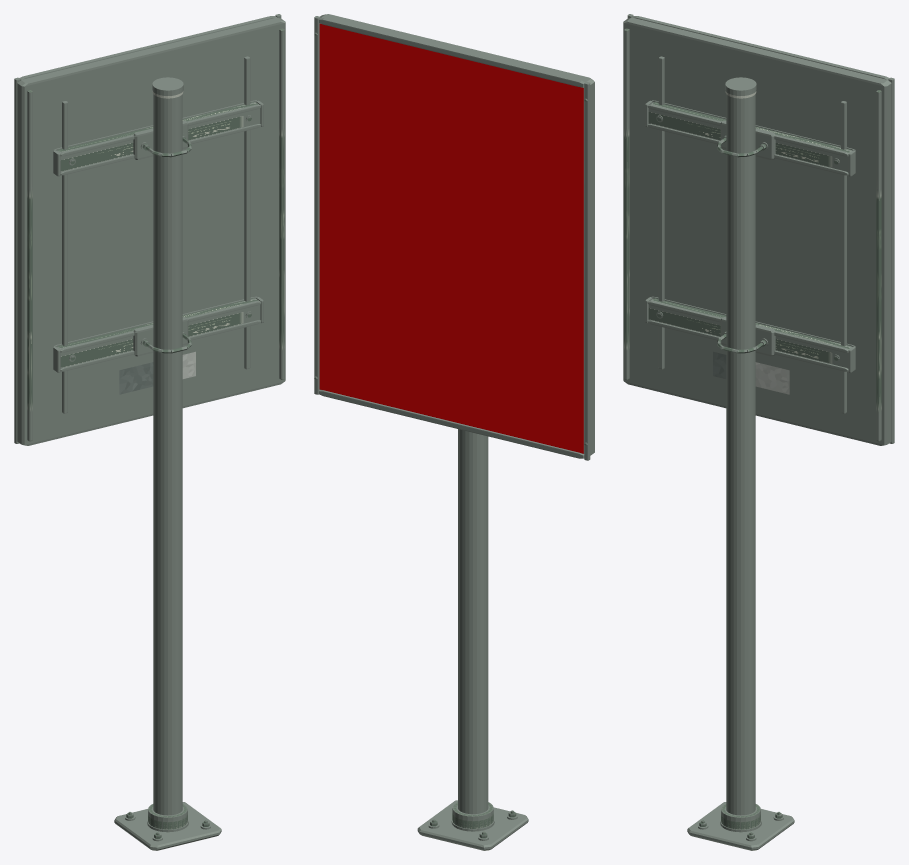
The model's file is ndz01.obj.
3 renders of one model, left to right at view 1: azimuth 30°, elevation 25°; view 2: azimuth 150°, elevation 25°; view 3: azimuth 330°, elevation 25°, orthographic. The views are drawn at different scales.
Parts seen in each view (by area): view 1: ndz01_000_folded_aluminium_board, ndz01_019_galvanised_round_post, ndz01_023_rear_fixing_rail_0, ndz01_047_rear_fixing_rail_1, ndz01_011_rear_return_flange__1, ndz01_017_rear_return_flange_1, ndz01_071_bevelled_base_plate, ndz01_018_rear_vertical_stiffener_1, ndz01_012_rear_vertical_stiffener__1, ndz01_002_frame_left, ndz01_086_decal_rear_identification, ndz01_005_frame_top (+8 smaller); view 2: ndz01_006_original_photo_front, ndz01_019_galvanised_round_post, ndz01_000_folded_aluminium_board, ndz01_002_frame_left, ndz01_071_bevelled_base_plate, ndz01_003_frame_right, ndz01_005_frame_top, ndz01_004_frame_bottom, ndz01_001_print_backing_gasket, ndz01_072_welded_post_socket; view 3: ndz01_000_folded_aluminium_board, ndz01_019_galvanised_round_post, ndz01_023_rear_fixing_rail_0, ndz01_047_rear_fixing_rail_1, ndz01_011_rear_return_flange__1, ndz01_017_rear_return_flange_1, ndz01_071_bevelled_base_plate, ndz01_012_rear_vertical_stiffener__1, ndz01_018_rear_vertical_stiffener_1, ndz01_003_frame_right, ndz01_086_decal_rear_identification, ndz01_005_frame_top (+8 smaller).
Part boxes in pixels (x1,y1,x2,y2): ndz01_000_folded_aluminium_board: (17, 17, 285, 445); ndz01_019_galvanised_round_post: (153, 94, 182, 815); ndz01_023_rear_fixing_rail_0: (57, 298, 260, 368); ndz01_047_rear_fixing_rail_1: (57, 102, 260, 172); ndz01_011_rear_return_flange__1: (27, 90, 32, 441); ndz01_017_rear_return_flange_1: (279, 28, 284, 379); ndz01_071_bevelled_base_plate: (114, 802, 221, 850); ndz01_018_rear_vertical_stiffener_1: (244, 56, 250, 369); ndz01_012_rear_vertical_stiffener__1: (62, 101, 67, 413); ndz01_002_frame_left: (14, 77, 20, 443); ndz01_086_decal_rear_identification: (119, 351, 195, 394); ndz01_005_frame_top: (19, 16, 276, 80); ndz01_006_original_photo_front: (319, 23, 583, 453); ndz01_019_galvanised_round_post: (458, 429, 488, 814); ndz01_000_folded_aluminium_board: (320, 14, 594, 455); ndz01_002_frame_left: (584, 82, 590, 460); ndz01_071_bevelled_base_plate: (417, 800, 528, 850); ndz01_003_frame_right: (314, 16, 320, 394); ndz01_005_frame_top: (319, 18, 584, 87); ndz01_004_frame_bottom: (319, 390, 584, 458); ndz01_001_print_backing_gasket: (319, 23, 584, 453); ndz01_072_welded_post_socket: (452, 802, 493, 828); ndz01_000_folded_aluminium_board: (623, 17, 891, 445); ndz01_019_galvanised_round_post: (726, 94, 755, 815); ndz01_023_rear_fixing_rail_0: (648, 298, 851, 368); ndz01_047_rear_fixing_rail_1: (648, 102, 851, 172); ndz01_011_rear_return_flange__1: (624, 28, 629, 379); ndz01_017_rear_return_flange_1: (876, 90, 881, 441); ndz01_071_bevelled_base_plate: (687, 802, 794, 850); ndz01_012_rear_vertical_stiffener__1: (658, 56, 664, 369); ndz01_018_rear_vertical_stiffener_1: (841, 101, 846, 413); ndz01_003_frame_right: (888, 77, 894, 443); ndz01_086_decal_rear_identification: (713, 351, 789, 394); ndz01_005_frame_top: (632, 16, 889, 80).
Bounding box in the file's own units: 0.706 × 1.95 × 0.1965.
